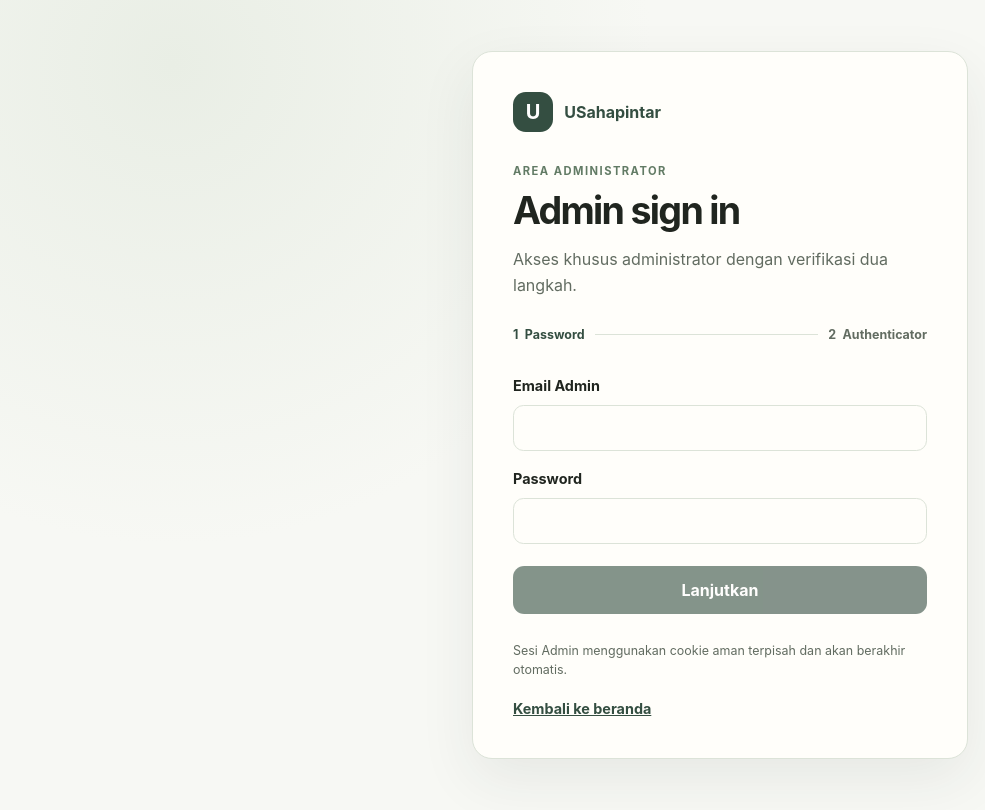
AdminLoginPage › shows a safe authentication error without advancing the login phase
In the field labelled "Email Admin": (720, 428) [513, 405, 927, 451], type "admin@example.test"
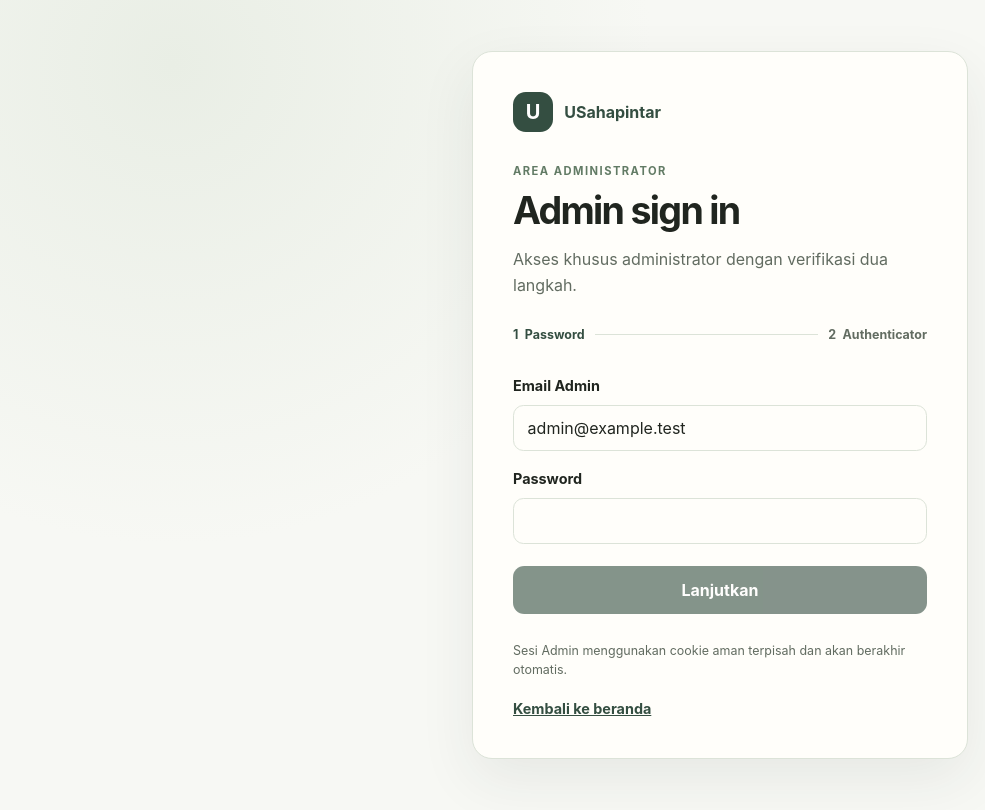
In the password field labelled "Password": (720, 521) [513, 498, 927, 544], type "incorrect-value"
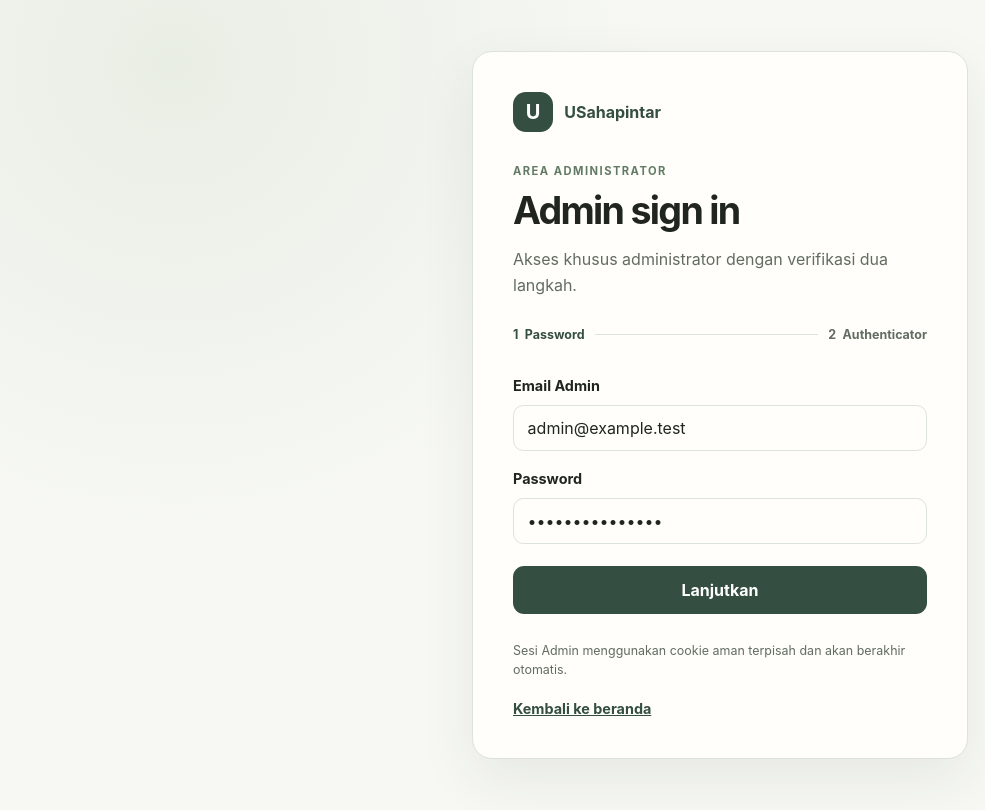
Click the button "Lanjutkan": (720, 590) [513, 566, 927, 614]
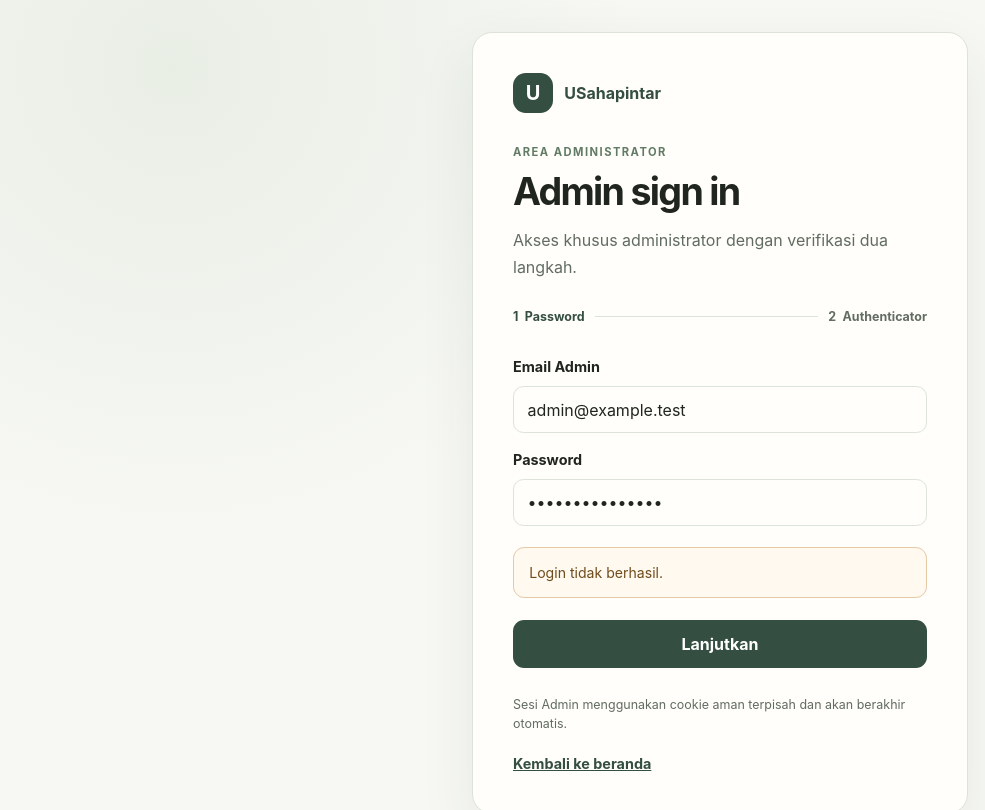
expect the message reads "Login tidak berhasil.": met, box [529, 564, 663, 581]
